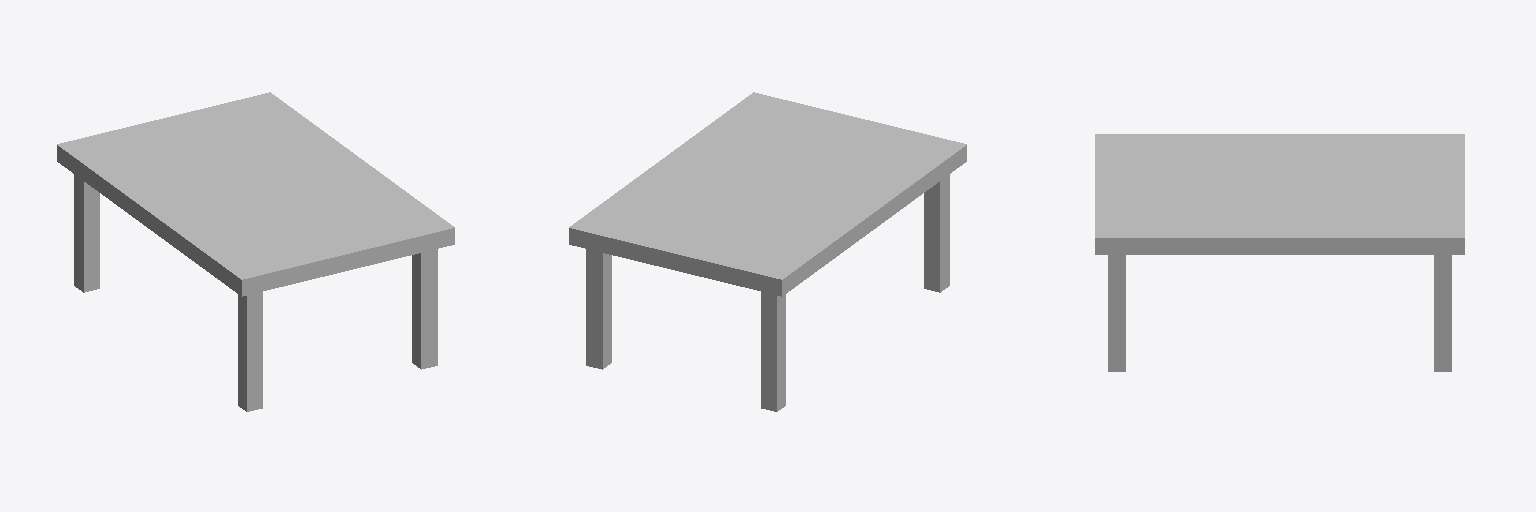
File: table.obj
The picture shows the model from 3 angles: view 1: azimuth 30°, elevation 25°; view 2: azimuth 150°, elevation 25°; view 3: azimuth 270°, elevation 25°; orthographic projection.
Parts seen in each view (by area): view 1: Cube; view 2: Cube; view 3: Cube.
Part boxes in pixels (x1,y1,x2,y2): Cube: (57,92,454,411); Cube: (569,92,966,411); Cube: (1095,134,1464,371).
Bounding box in the file's own units: 2 × 1.25 × 3.